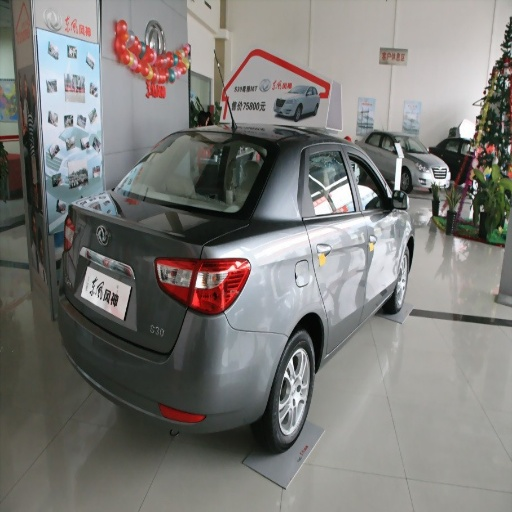back_bumper: (67, 309, 287, 434)
back_right_door: (299, 146, 368, 340)
tailgate: (66, 191, 216, 350)
trunk: (229, 73, 308, 142)
